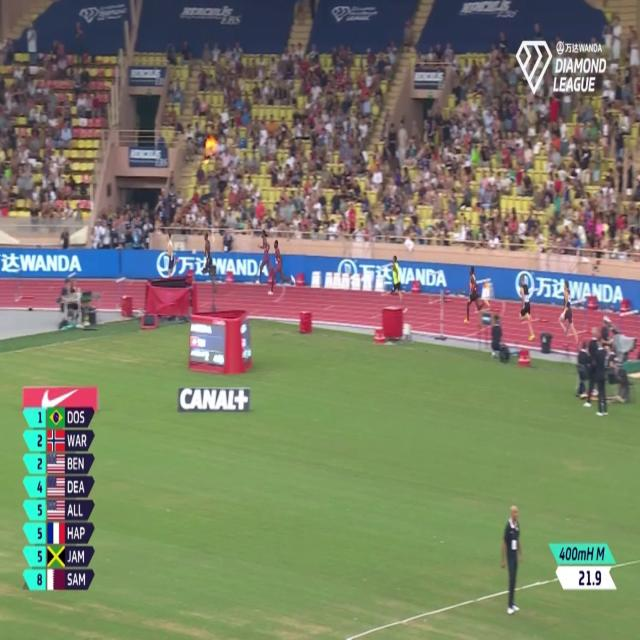athlete: (268, 233, 297, 300), (462, 267, 491, 330), (516, 272, 540, 346), (558, 280, 584, 346), (386, 253, 410, 317), (198, 231, 222, 295), (256, 229, 276, 289), (163, 228, 182, 280)
hurdle: (424, 264, 448, 308), (615, 305, 640, 346), (570, 294, 589, 340), (112, 274, 131, 314), (11, 266, 30, 302)
